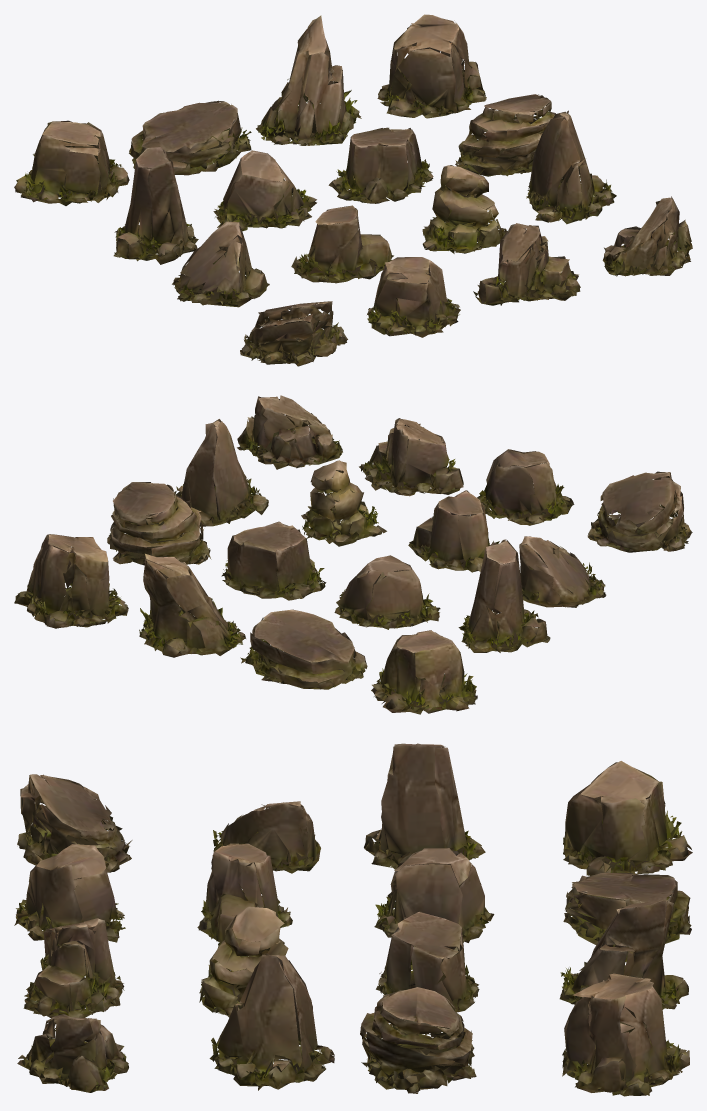
Rendered from Rock_Formations_Colle_2_town.glb.
3 renders of one model, top to bottom at view 1: azimuth 30°, elevation 25°; view 2: azimuth 150°, elevation 25°; view 3: azimuth 270°, elevation 25°, orthographic. The views are drawn at different scales.
Visible parts, largest first — view 1: Rock_Formations_Colle_2; view 2: Rock_Formations_Colle_2; view 3: Rock_Formations_Colle_2.
Boxes of the visible parts, x1,y1,x2,y2 form: Rock_Formations_Colle_2: [14, 14, 692, 366]; Rock_Formations_Colle_2: [14, 395, 692, 714]; Rock_Formations_Colle_2: [14, 743, 692, 1096].
Bounding box in the file's own units: 1.84 × 0.363 × 1.89.
Materials: 1 (1 with a texture image).
